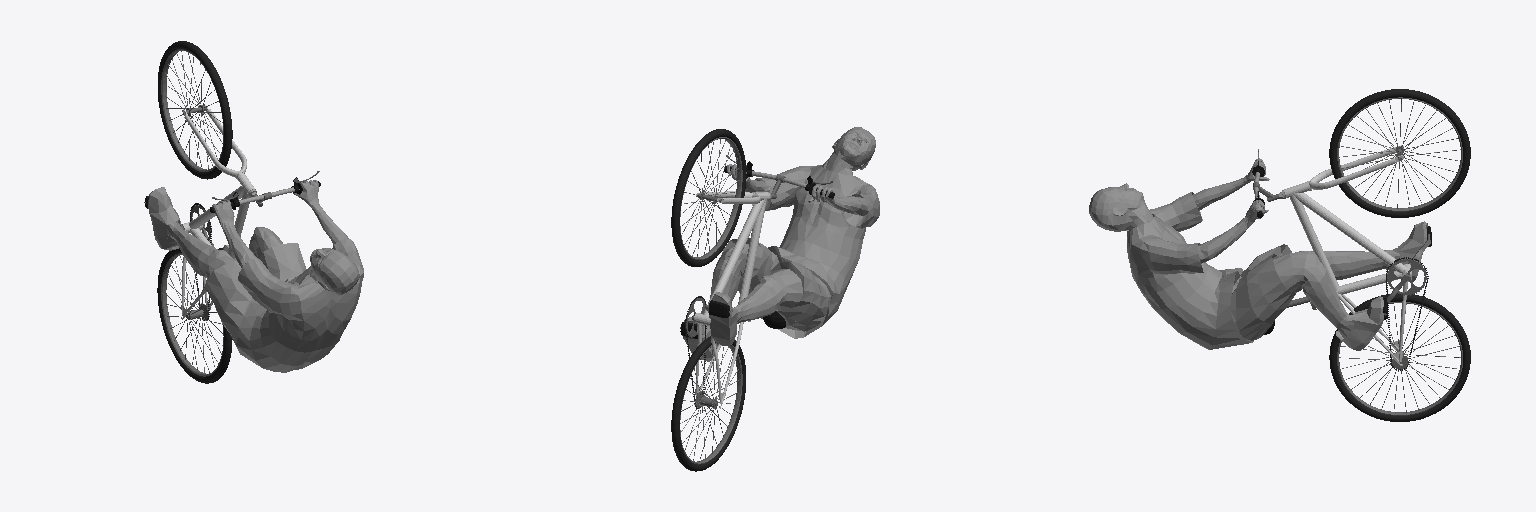
The model's file is ManAndBicycleFima.obj.
The picture shows the model from 3 angles: view 1: azimuth 30°, elevation 25°; view 2: azimuth 150°, elevation 25°; view 3: azimuth 270°, elevation 25°; orthographic projection.
Parts seen in each view (by area): view 1: Plane; view 2: Plane; view 3: Plane.
Boxes of the visible parts, x1=… form: Plane: x1=144, y1=41, x2=363, y2=383; Plane: x1=671, y1=127, x2=879, y2=471; Plane: x1=1089, y1=89, x2=1470, y2=421.
Size of the model in its own units: 61.94 by 167 by 174.